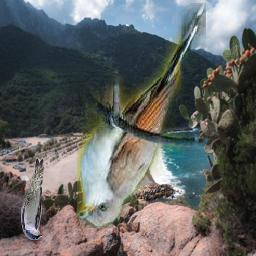Cuckoo: (78, 4, 207, 229)
Swallow: (22, 158, 45, 241)
